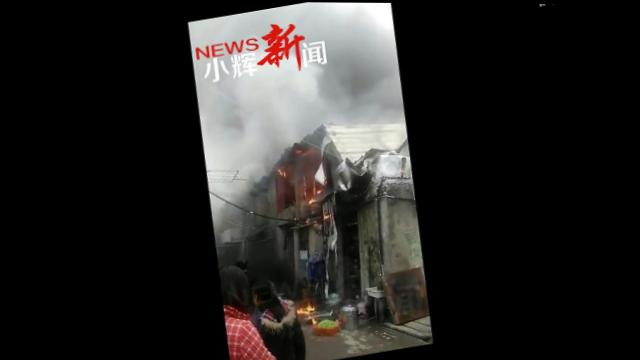fire: (299, 302, 318, 314), (312, 314, 320, 324), (279, 167, 287, 177), (309, 197, 319, 203)
